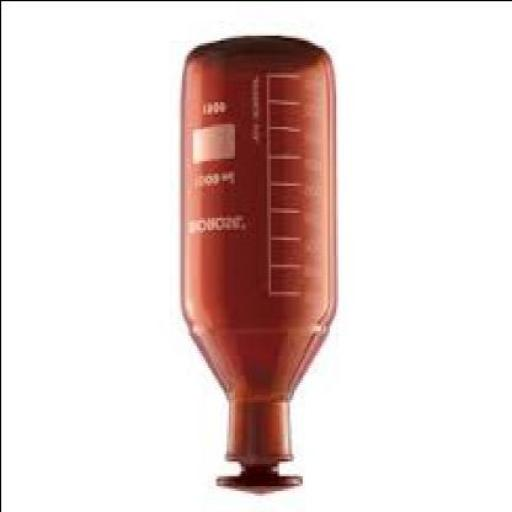glass: (176, 37, 336, 497)
